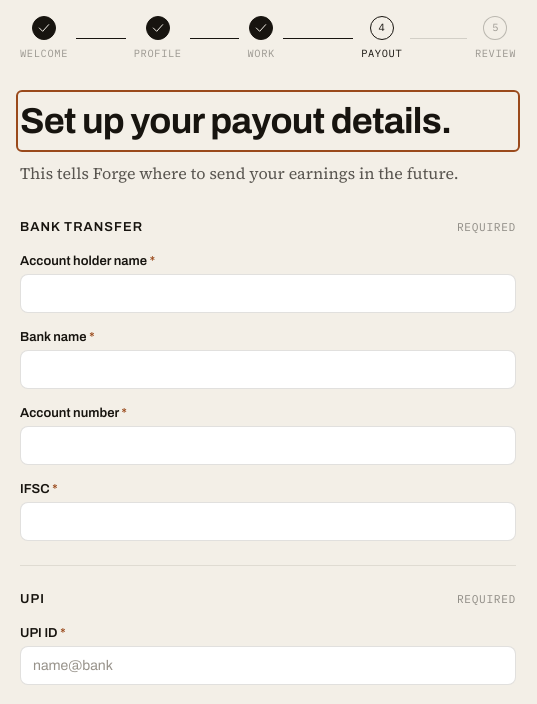
Test case: PayoutStep — K10 IFSC resolution › warns on a bank/IFSC mismatch and lets the user accept the resolved bank
Type "ICICI Bank" into the dropdown labelled "Bank name *" at (268, 369), box top-left (20, 350), bottom-right (516, 389)
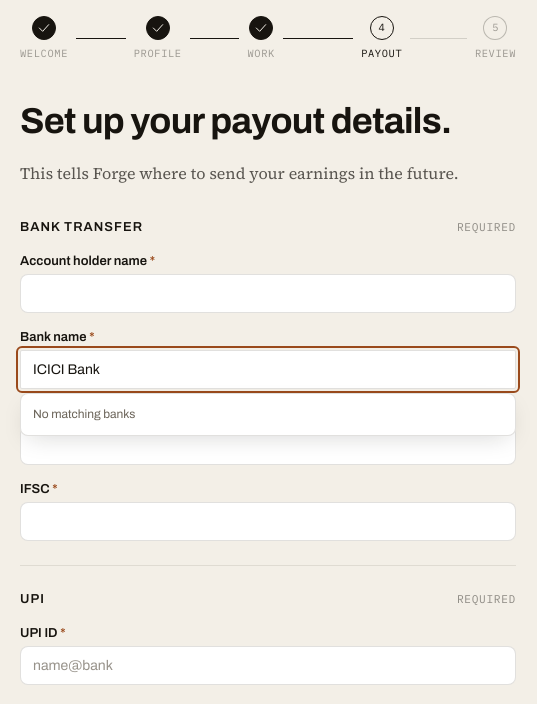
Type "HDFC0001234" into the field labelled "IFSC *" at (268, 521), box top-left (20, 502), bottom-right (516, 541)
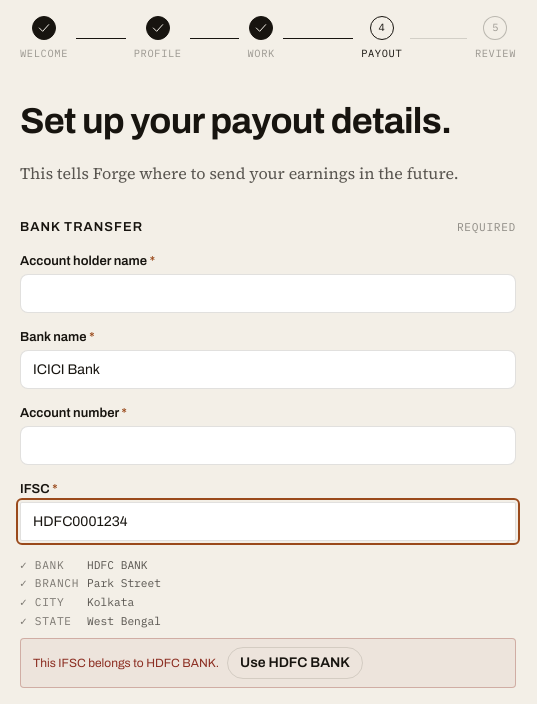
Now the text "This IFSC belongs to HDFC BANK." is shown, box top-left (33, 654), bottom-right (219, 672)
Click the button "Use HDFC BANK" at (295, 663), box top-left (227, 647), bottom-right (363, 679)
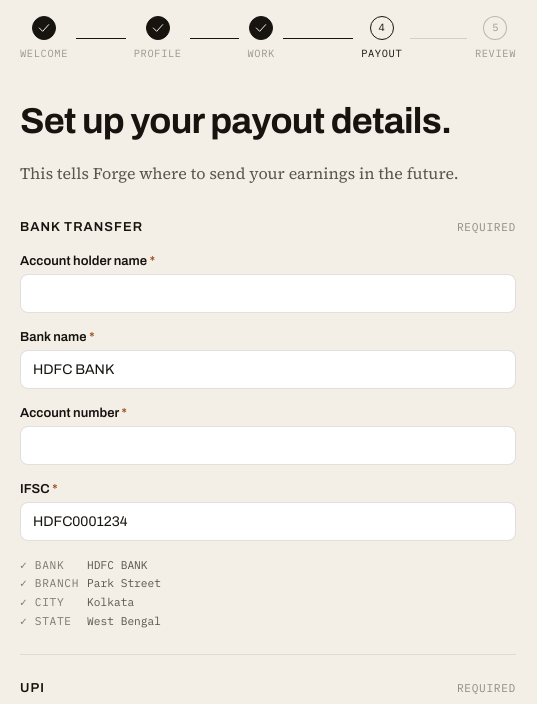
Now the dropdown labelled "Bank name *" holds "HDFC BANK", box top-left (20, 350), bottom-right (516, 389)
Now the text "This IFSC belongs to" is gone
